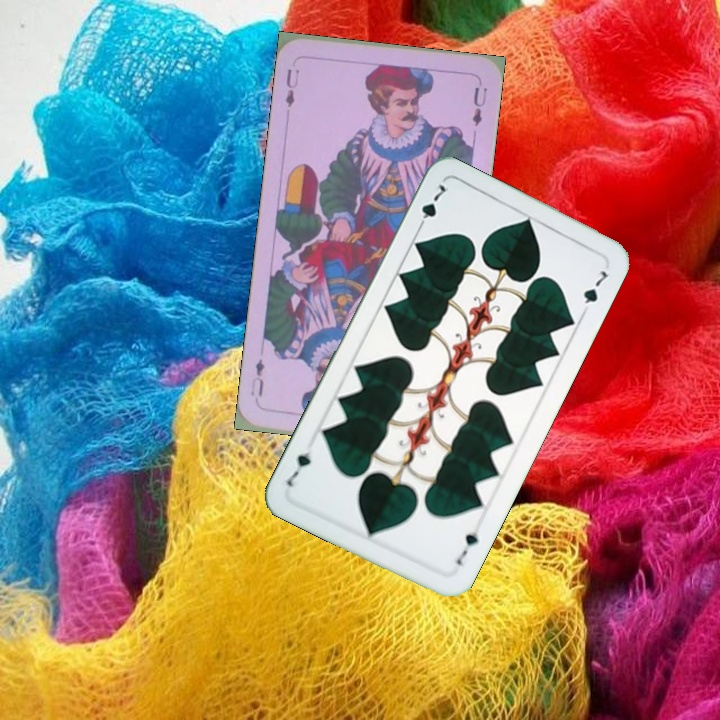EU: (281, 65, 302, 110)
G7: (413, 180, 451, 234), (451, 522, 483, 568)
